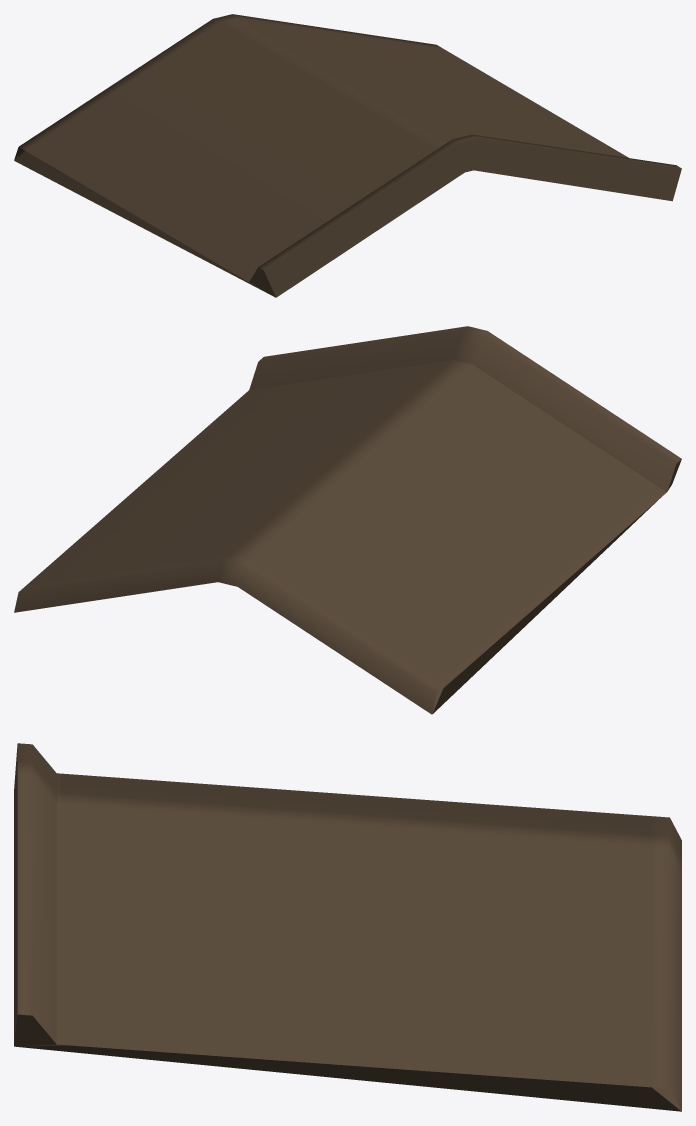
File: FBX_RoofTile.fbx
3 views of the same model, one above another, from view 1: azimuth 30°, elevation 25°; view 2: azimuth 150°, elevation 25°; view 3: azimuth 270°, elevation 25° (orthographic). The views are drawn at different scales.
Visible parts, largest first — view 1: pasted__Fixed_Roof; view 2: pasted__Fixed_Roof; view 3: pasted__Fixed_Roof.
Boxes of the visible parts, x1,y1,x2,y2 form: pasted__Fixed_Roof: (14,14,681,297); pasted__Fixed_Roof: (14,326,681,714); pasted__Fixed_Roof: (14,743,681,1111).
Bounding box in the file's own units: 286 × 101 × 298.
